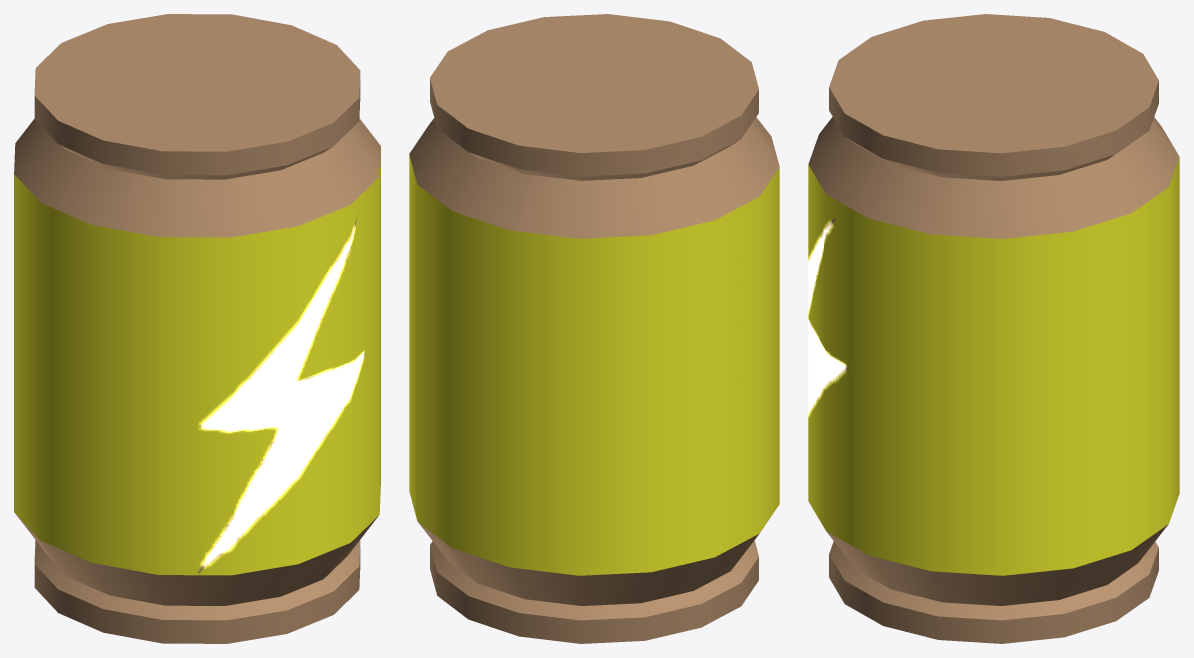
Rendered from OBS0110195.fbx.
3 renders of one model, left to right at view 1: azimuth 30°, elevation 25°; view 2: azimuth 150°, elevation 25°; view 3: azimuth 270°, elevation 25°, orthographic.
Visible parts, largest first — view 1: smOBS0110195; view 2: smOBS0110195; view 3: smOBS0110195.
Boxes of the visible parts, bbox=[...] form: smOBS0110195: bbox=[14, 14, 380, 643]; smOBS0110195: bbox=[409, 14, 779, 643]; smOBS0110195: bbox=[808, 14, 1179, 643].
Size of the model in its own units: 200 by 292 by 200.
Materials: 1 (1 with a texture image).
